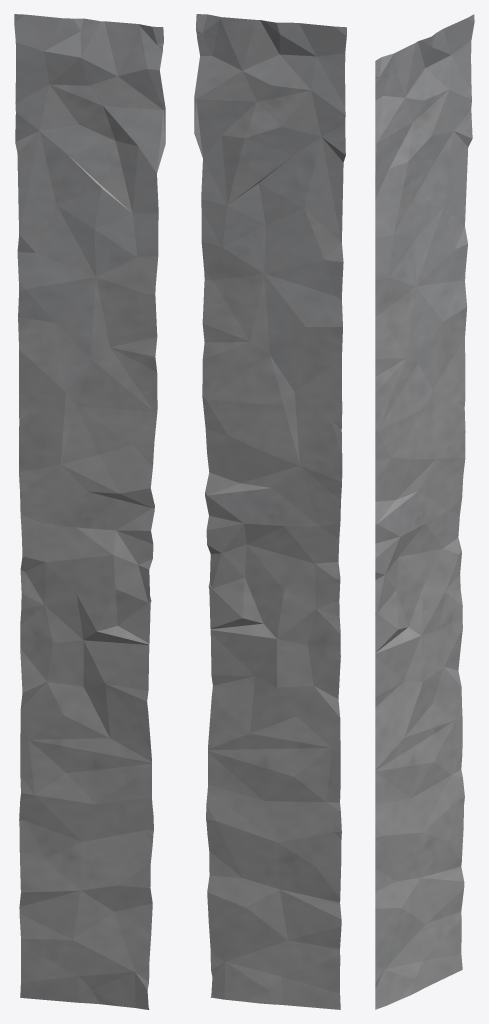
3 renders of one model, left to right at view 1: azimuth 30°, elevation 25°; view 2: azimuth 210°, elevation 25°; view 3: azimuth 270°, elevation 25°, orthographic. The views are drawn at different scales.
Size of the model in its own units: 0.0902 by 0.8374 by 0.0786.
1 material, 1 textured.
